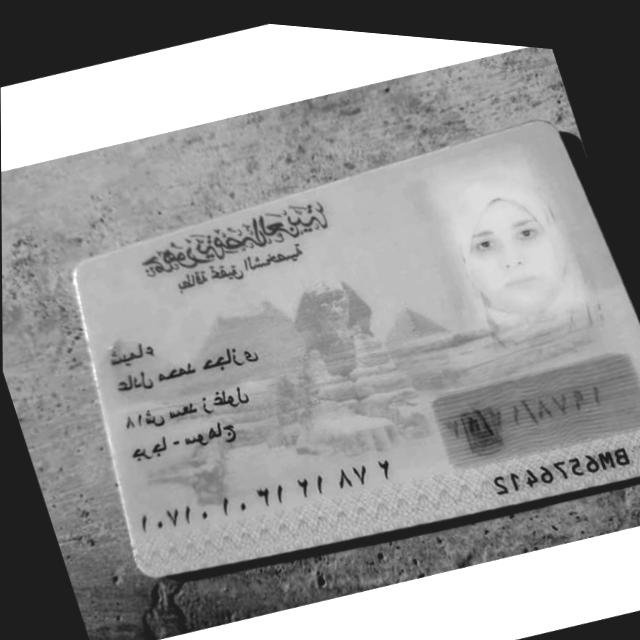front: (27, 76, 640, 639)
